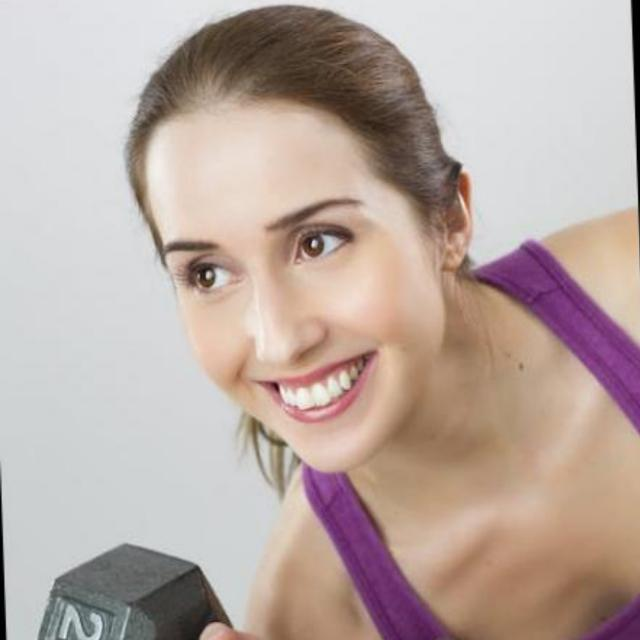Happy: (85, 102, 472, 492)
